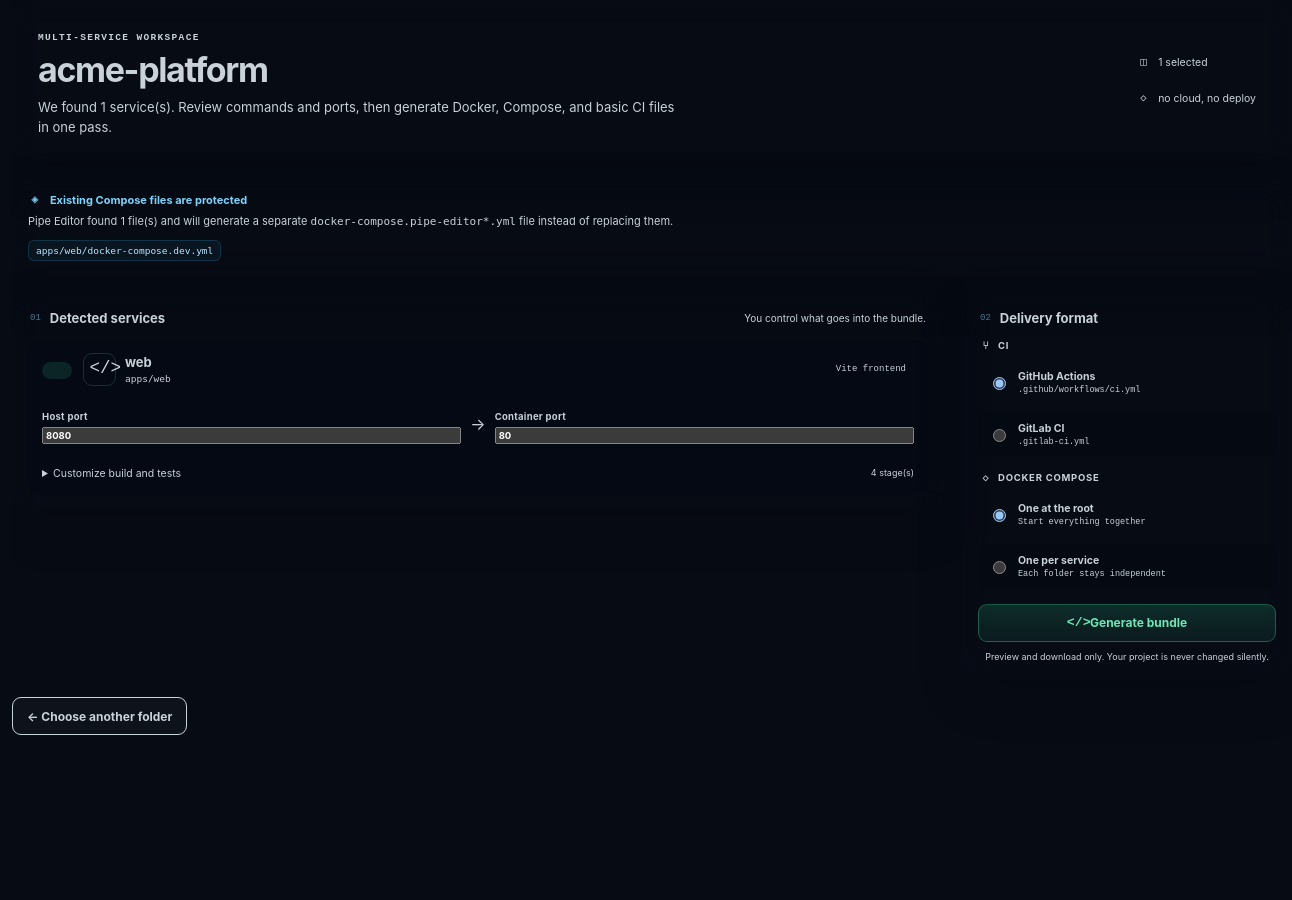
Test: WorkspaceStudio › requires at least one selected service before generation
Click the checkbox named "Include web" at (57, 369), box [42,360,72,379]
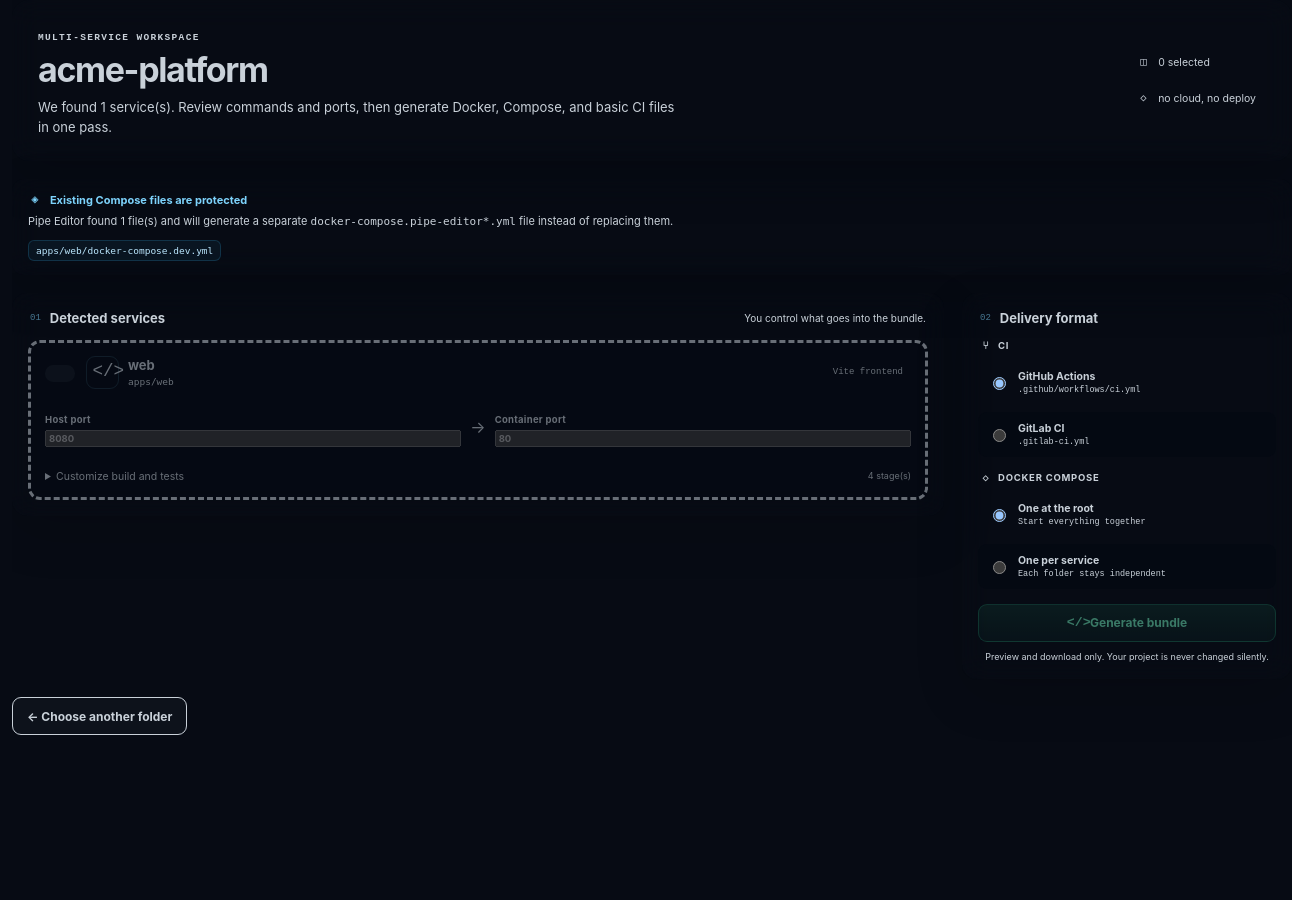
Result: the button "</> Generate bundle" is disabled at [978,604,1276,642]
Result: the text "0 selected" is shown at [1140,56,1210,69]
